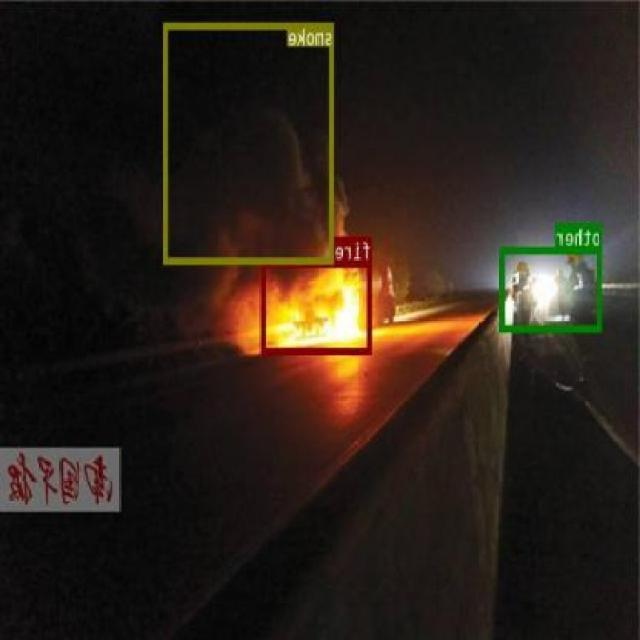Fire: (262, 260, 373, 354)
Smoke: (163, 22, 334, 262)
